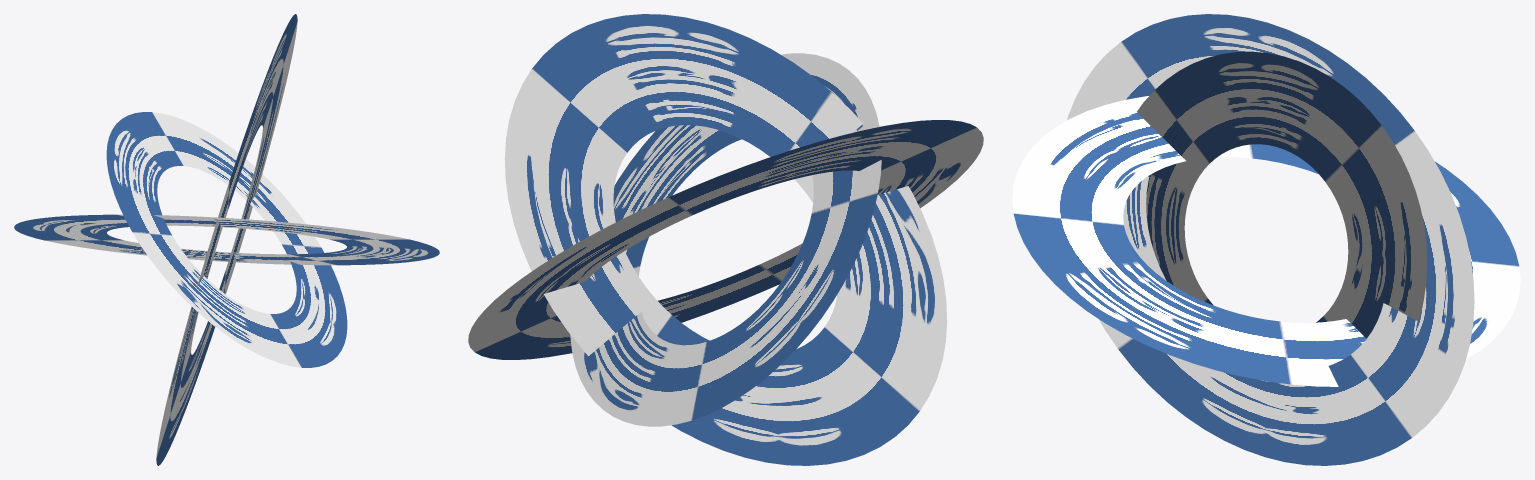
The model's file is Enmu_Ring4.fbx.
3 renders of one model, left to right at view 1: azimuth 30°, elevation 25°; view 2: azimuth 150°, elevation 25°; view 3: azimuth 270°, elevation 25°, orthographic. The views are drawn at different scales.
Visible parts, largest first — view 1: SM_e_Plc_P1011_Ring004; view 2: SM_e_Plc_P1011_Ring004; view 3: SM_e_Plc_P1011_Ring004.
Boxes of the visible parts, left/top/right/bottom form: SM_e_Plc_P1011_Ring004: left=14, top=14, right=439, bottom=465; SM_e_Plc_P1011_Ring004: left=468, top=14, right=983, bottom=465; SM_e_Plc_P1011_Ring004: left=1012, top=14, right=1520, bottom=465.
Size of the model in its own units: 73.29 by 83.33 by 86.71.
